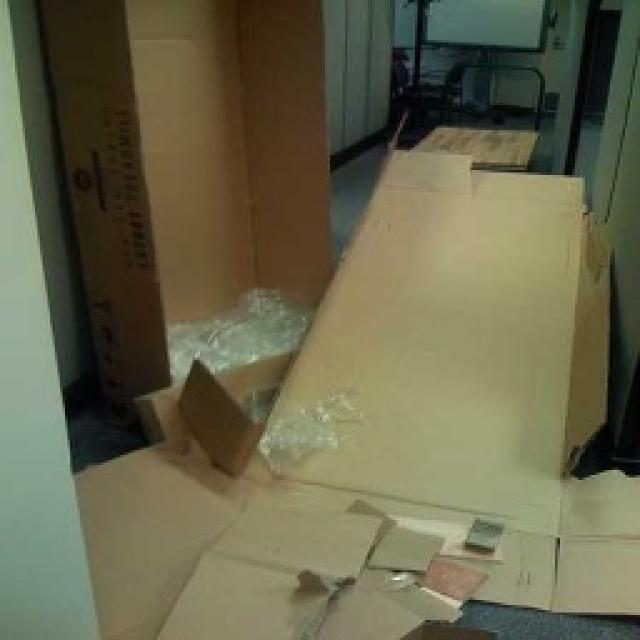box: (32, 0, 337, 424)
